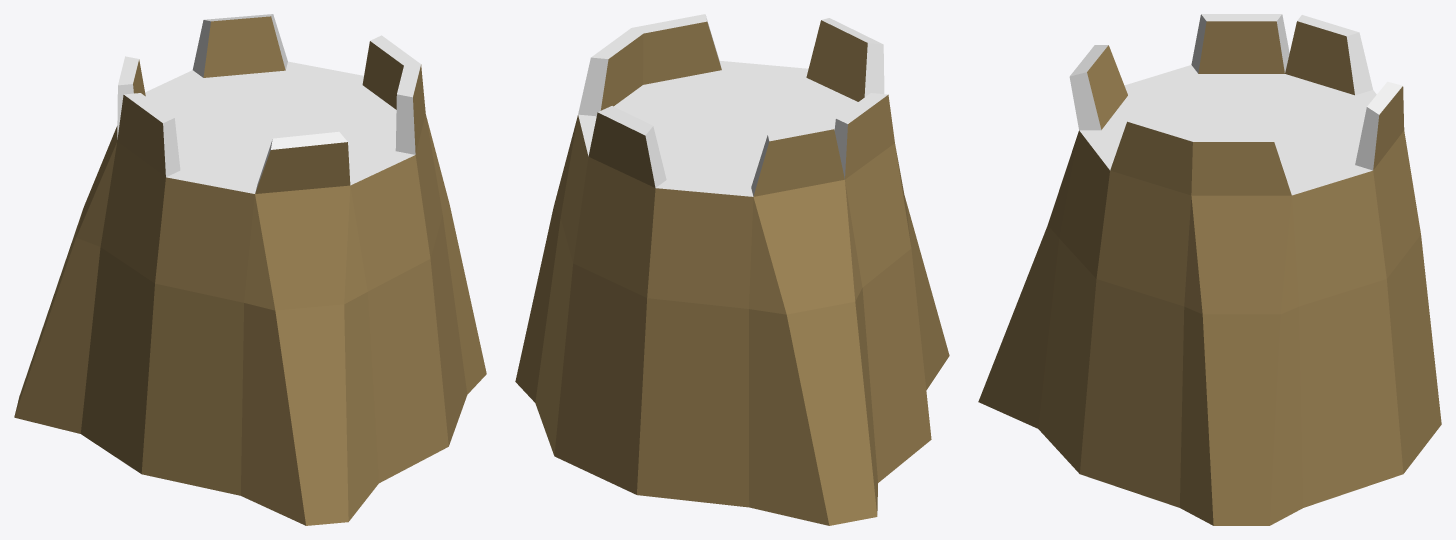
Rendered from Oak_Stump_Snow_06.fbx.
The picture shows the model from 3 angles, left to right: view 1: azimuth 30°, elevation 25°; view 2: azimuth 150°, elevation 25°; view 3: azimuth 270°, elevation 25°; orthographic projection. The views are drawn at different scales.
Parts seen in each view (by area): view 1: Oak_Stump_Snow_06; view 2: Oak_Stump_Snow_06; view 3: Oak_Stump_Snow_06.
Boxes of the visible parts, x1,y1,x2,y2 form: Oak_Stump_Snow_06: [14, 14, 486, 525]; Oak_Stump_Snow_06: [515, 14, 949, 525]; Oak_Stump_Snow_06: [978, 14, 1441, 525].
Bounding box in the file's own units: 98.43 × 80.45 × 96.07.
